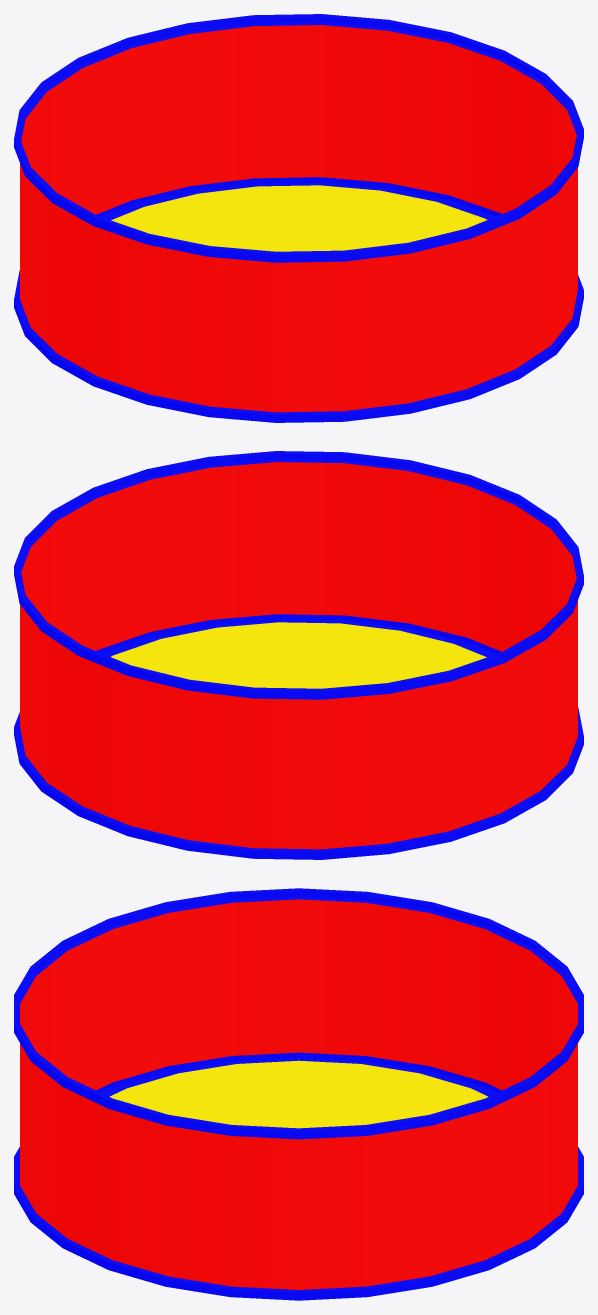
File: W_Lampe.fbx
The picture shows the model from 3 angles, top to bottom: view 1: azimuth 30°, elevation 25°; view 2: azimuth 150°, elevation 25°; view 3: azimuth 270°, elevation 25°; orthographic projection.
Parts seen in each view (by area): view 1: W_Lampe; view 2: W_Lampe; view 3: W_Lampe.
Part boxes in pixels (x1=…): W_Lampe: x1=14, y1=14, x2=583, y2=422; W_Lampe: x1=14, y1=451, x2=583, y2=859; W_Lampe: x1=14, y1=888, x2=583, y2=1300.
Size of the model in its own units: 61.31 by 20 by 60.86.
